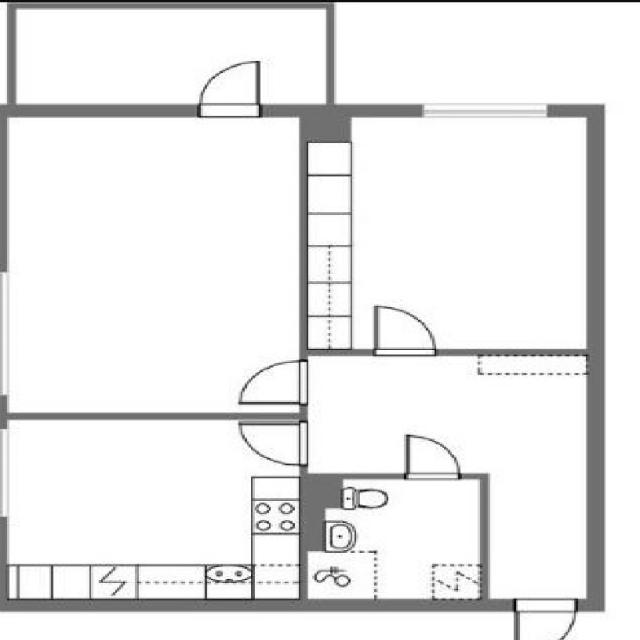door: (201, 62, 259, 117), (375, 306, 435, 355), (241, 422, 307, 465), (241, 361, 307, 403), (518, 598, 576, 640), (408, 436, 459, 479)
